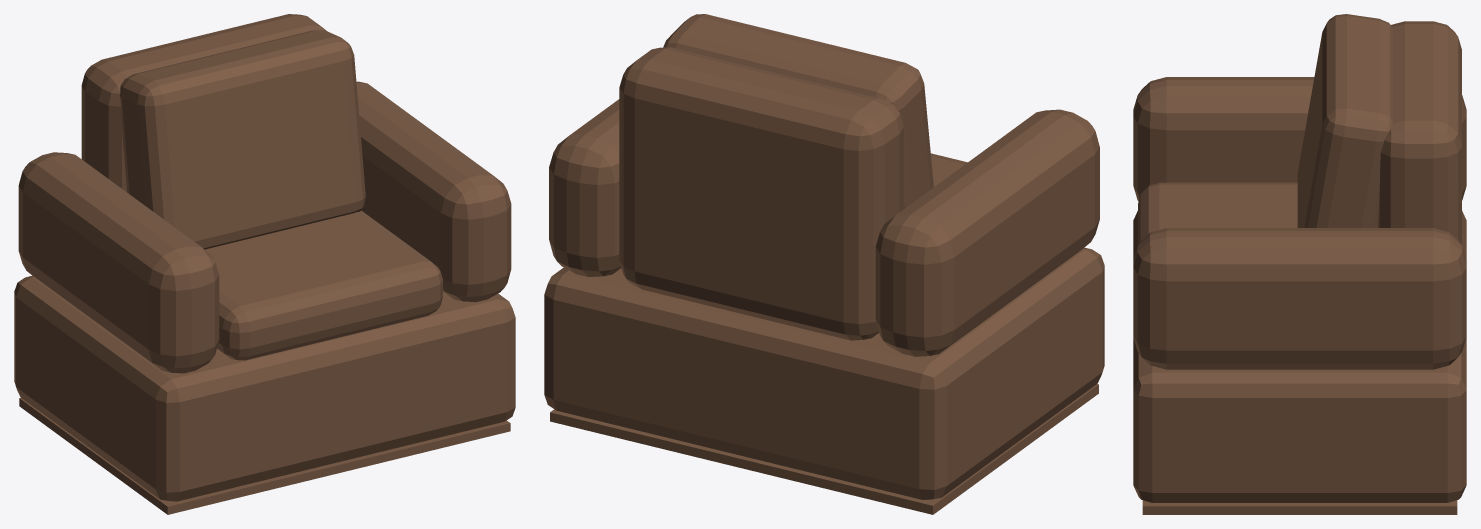
The model's file is recliner.glb.
3 renders of one model, left to right at view 1: azimuth 30°, elevation 25°; view 2: azimuth 150°, elevation 25°; view 3: azimuth 270°, elevation 25°, orthographic. The views are drawn at different scales.
Visible parts, largest first — view 1: chair, seat; view 2: chair, seat; view 3: chair, seat.
Boxes of the visible parts, bbox=[...] form: chair: bbox=[14, 81, 515, 514]; seat: bbox=[81, 14, 442, 360]; chair: bbox=[544, 99, 1104, 514]; seat: bbox=[619, 14, 967, 340]; chair: bbox=[1133, 77, 1466, 514]; seat: bbox=[1138, 14, 1461, 244].
Size of the model in its own units: 0.92 by 0.8429 by 0.7.
